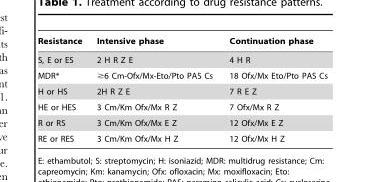table: (37, 36, 326, 142)
table column: (88, 36, 220, 142), (220, 36, 326, 142), (37, 36, 88, 142)
table column header: (37, 36, 326, 50)
table row: (37, 50, 326, 67), (37, 67, 326, 83), (37, 83, 326, 99), (37, 114, 326, 130), (37, 99, 326, 114), (37, 36, 326, 50), (37, 130, 326, 142)
